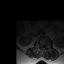CCS_severe_stenosis: (43, 42, 44, 50)
LFS_normal: (46, 43, 48, 49)
LLS_severe_stenosis: (44, 43, 46, 49)
RFS_normal: (40, 42, 41, 48)
RLS_normal: (41, 43, 43, 49)
